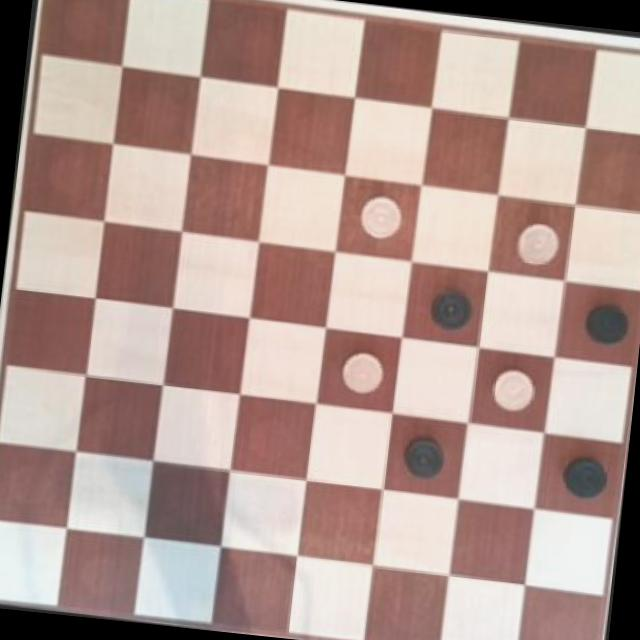BOARD: (0, 0, 640, 640)
black: (552, 448, 614, 510), (576, 294, 632, 347), (422, 280, 476, 334), (398, 426, 443, 480)
white: (331, 342, 387, 402), (509, 213, 566, 270), (484, 359, 536, 417), (356, 188, 410, 242)
